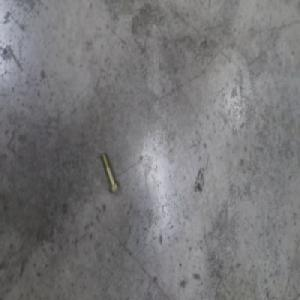Bolt: (99, 151, 118, 195)
